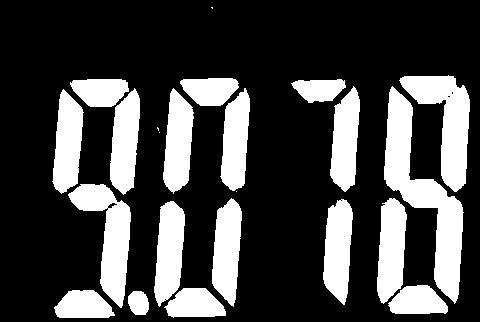0: (154, 73, 251, 321)
7: (287, 76, 360, 311)
8: (377, 71, 471, 317)
9: (51, 76, 143, 320)
dot: (127, 288, 153, 321)
